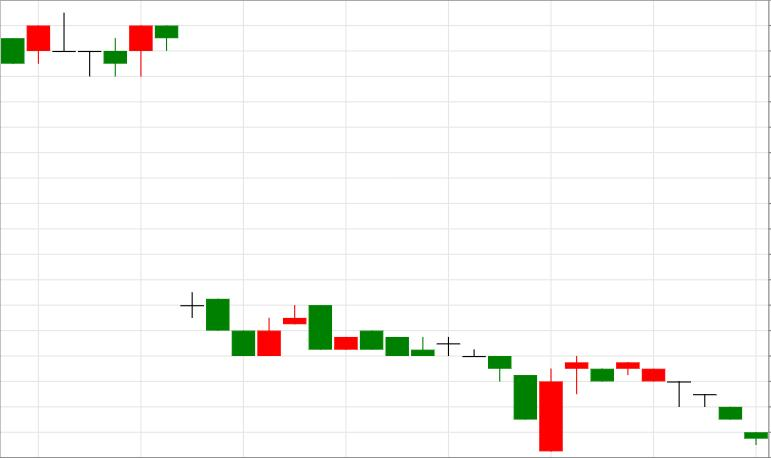bullish_engulfing_rise: (308, 305, 562, 451)
